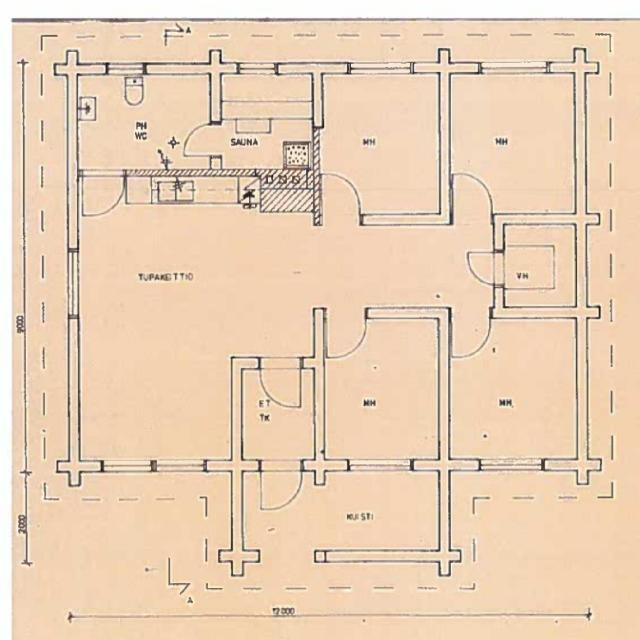door: (318, 309, 368, 364), (448, 168, 498, 222), (257, 461, 304, 515), (258, 357, 303, 412), (319, 170, 366, 222), (448, 314, 494, 363), (463, 248, 507, 288), (181, 120, 219, 159)
window: (345, 454, 416, 477), (62, 248, 83, 320), (477, 456, 544, 477), (348, 60, 417, 79), (99, 455, 157, 476), (479, 62, 547, 78), (152, 456, 209, 475), (237, 60, 279, 77), (105, 60, 146, 75)
zone: (448, 317, 579, 466), (318, 71, 444, 221), (448, 71, 578, 216), (319, 316, 442, 468), (73, 70, 212, 176), (217, 69, 316, 172), (240, 363, 318, 466), (499, 220, 578, 314), (607, 34, 640, 199), (240, 169, 315, 214), (257, 462, 304, 514), (78, 173, 128, 221), (23, 472, 76, 504), (182, 120, 218, 159)
